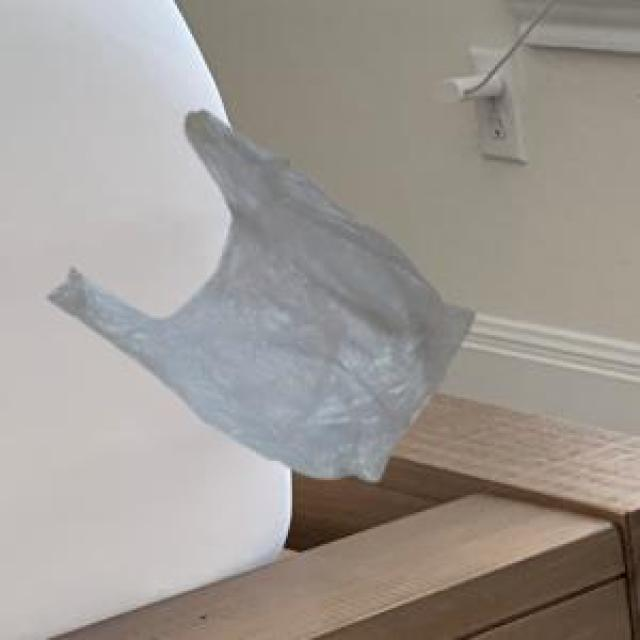plastic: (39, 62, 495, 508)
